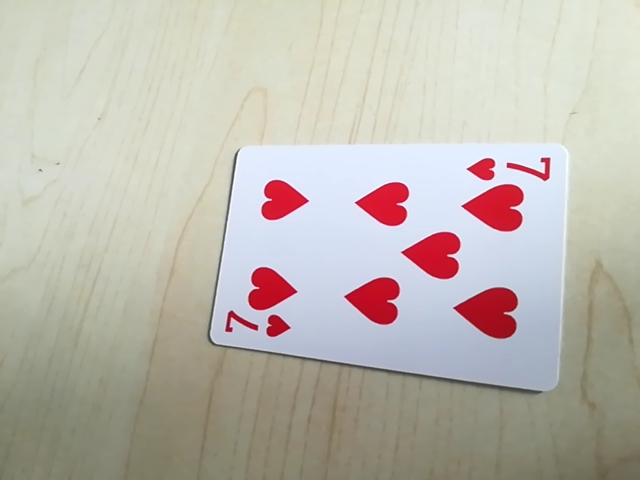hx 7: (461, 149, 552, 186), (220, 311, 292, 344)
